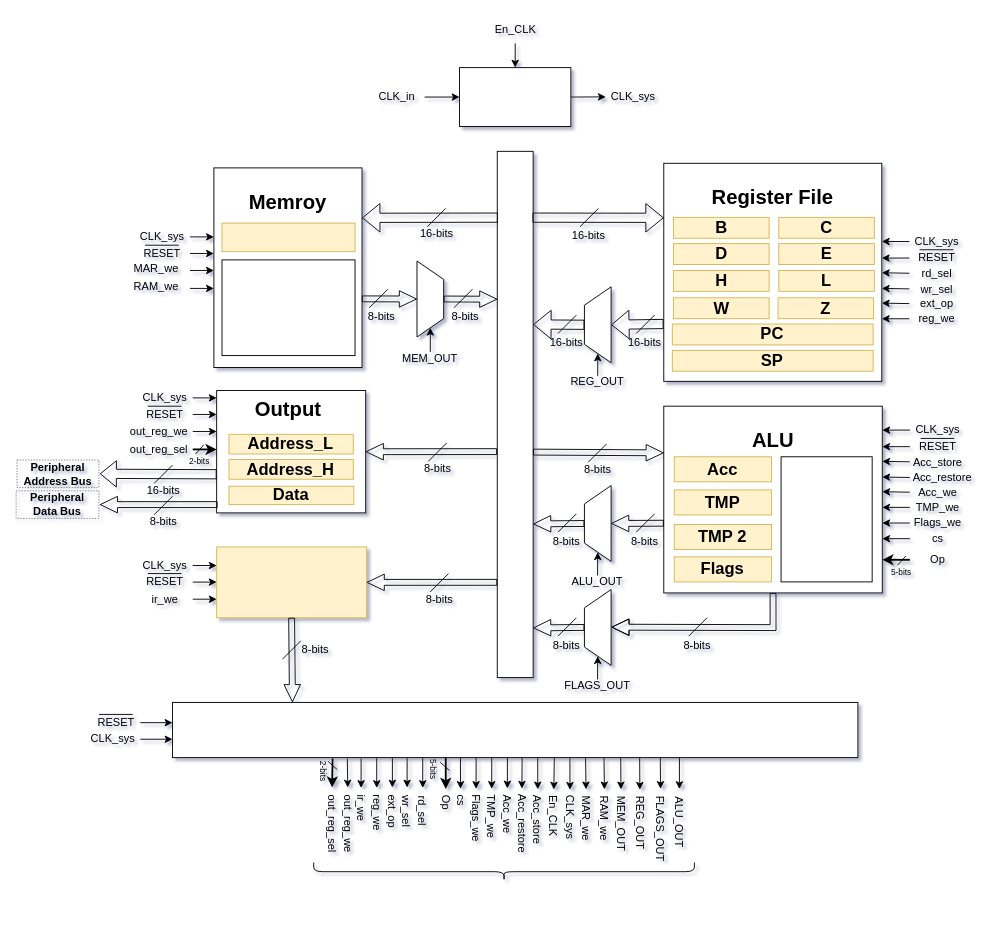
This 995x928 diagram has some shape labels left out. The centre of each missing label's shape, as x and y in pixels:
16-bit Bus: the point at 514,414
35 Bits: the point at 503,871
64 Kb RAM: the point at 288,307
Arithmetic and Logic unit: the point at 826,519
Clock controller: the point at 515,96
Controller: the point at 515,730
Instruction register: the point at 291,582
MAR: the point at 288,237
